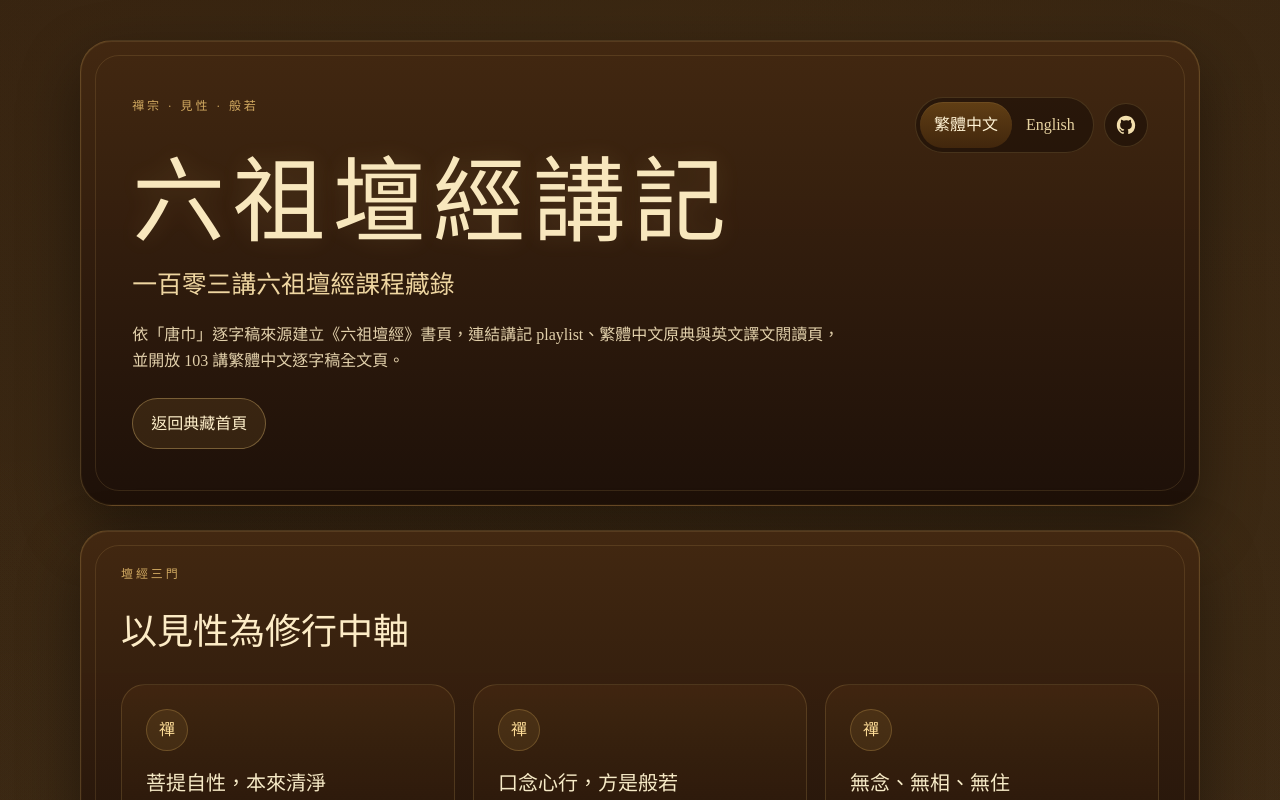
it: App › shows transcript-grounded English summaries on the Platform Sutra archive
The width and height of the screenshot is (1280, 800).
Click the button "English" at x=1050, y=125, box [1012, 102, 1089, 148]
(page scrolled)
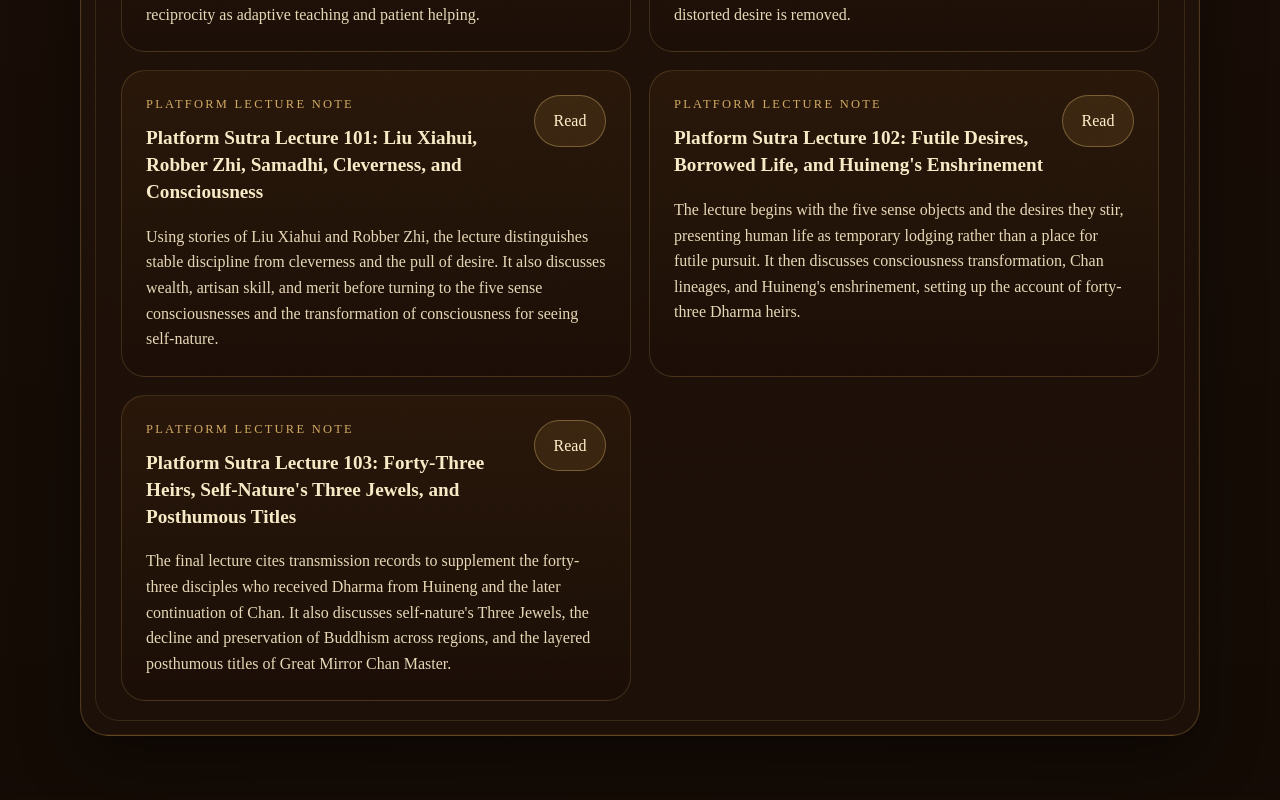
Check: the text "The final lecture cites transmission records" is shown, box [146, 552, 590, 672]
